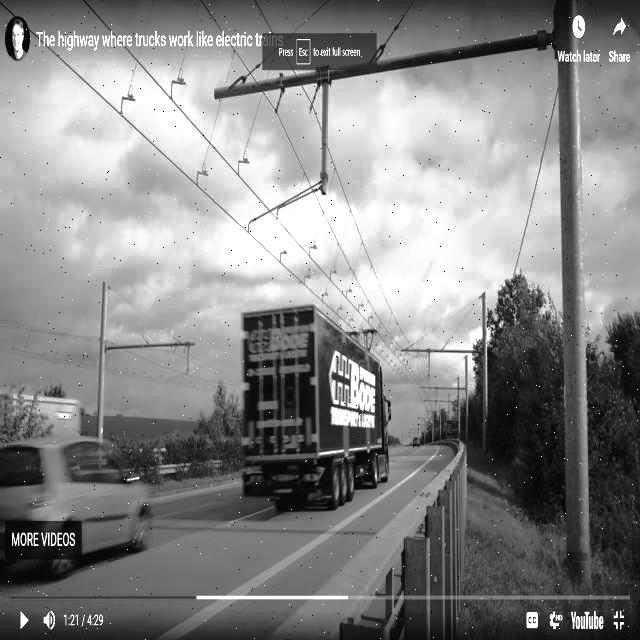HCV: (224, 285, 427, 530)
